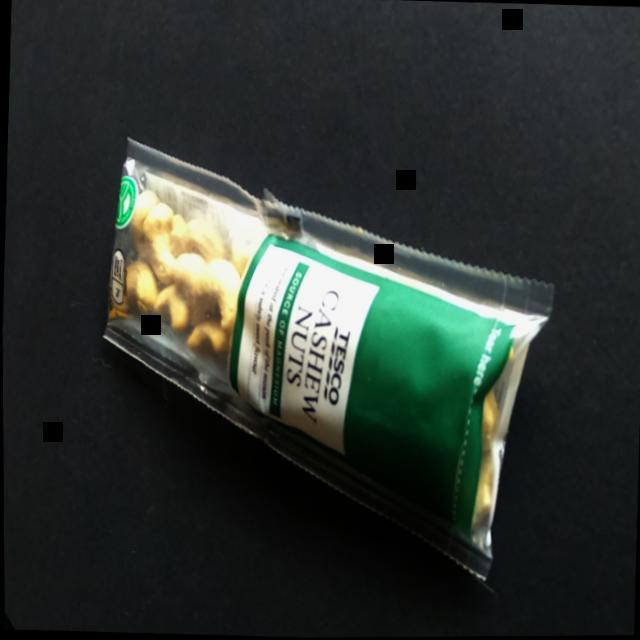Cashewnut: (75, 106, 575, 605)
